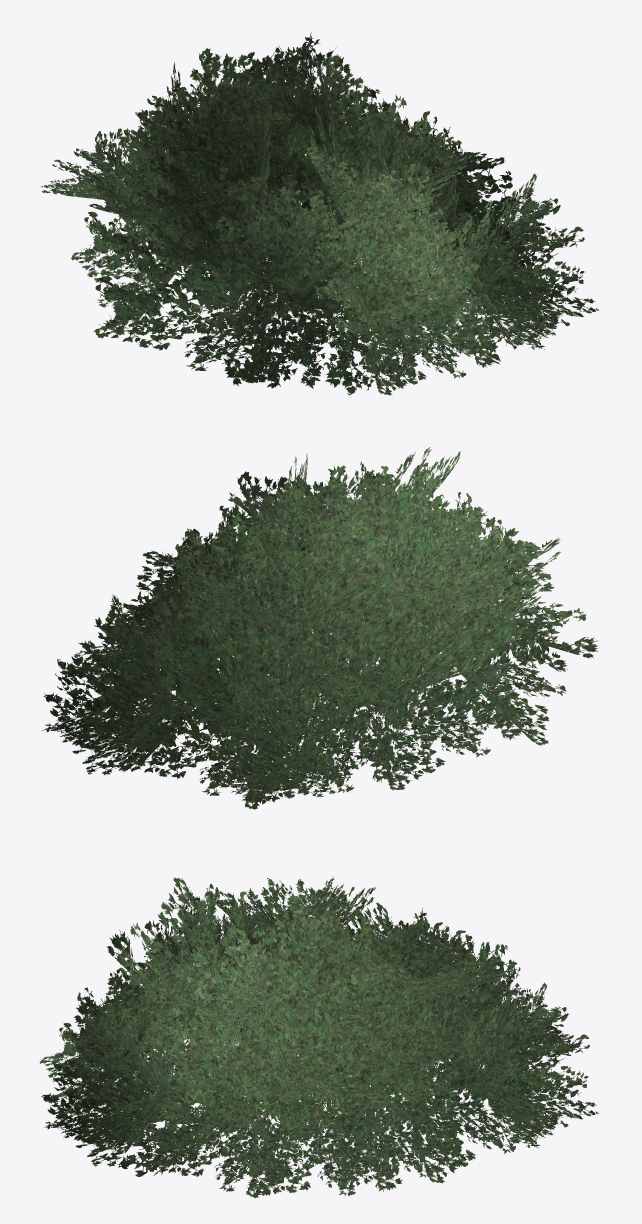
The model's file is shrb_giantlickbush_l0.fbx.
3 views of the same model, one above another, from view 1: azimuth 30°, elevation 25°; view 2: azimuth 150°, elevation 25°; view 3: azimuth 270°, elevation 25° (orthographic). The views are drawn at different scales.
Visible parts, largest first — view 1: mesh_node; view 2: mesh_node; view 3: mesh_node.
Part boxes in pixels (left/top/right/bottom): mesh_node: left=41, top=32, right=598, bottom=395; mesh_node: left=41, top=447, right=598, bottom=809; mesh_node: left=39, top=876, right=598, bottom=1198.
Bounding box in the file's own units: 6.04 × 3.39 × 7.16.
Materials: 1 (1 with a texture image).
